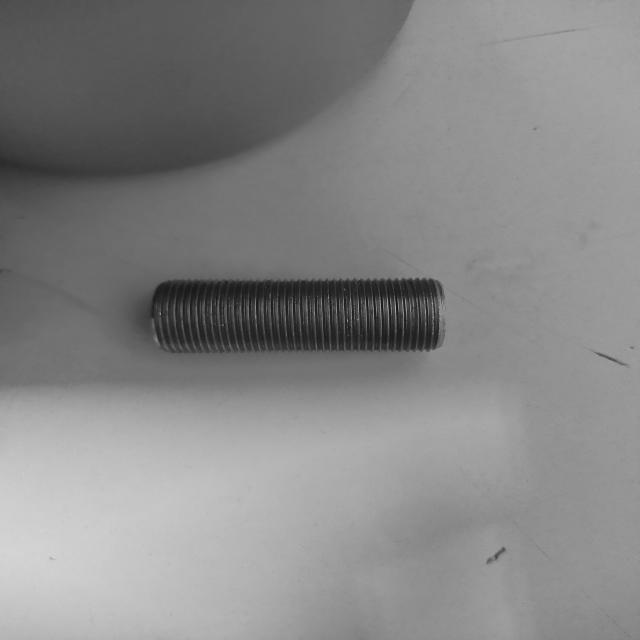Normal: (150, 277, 446, 353)
